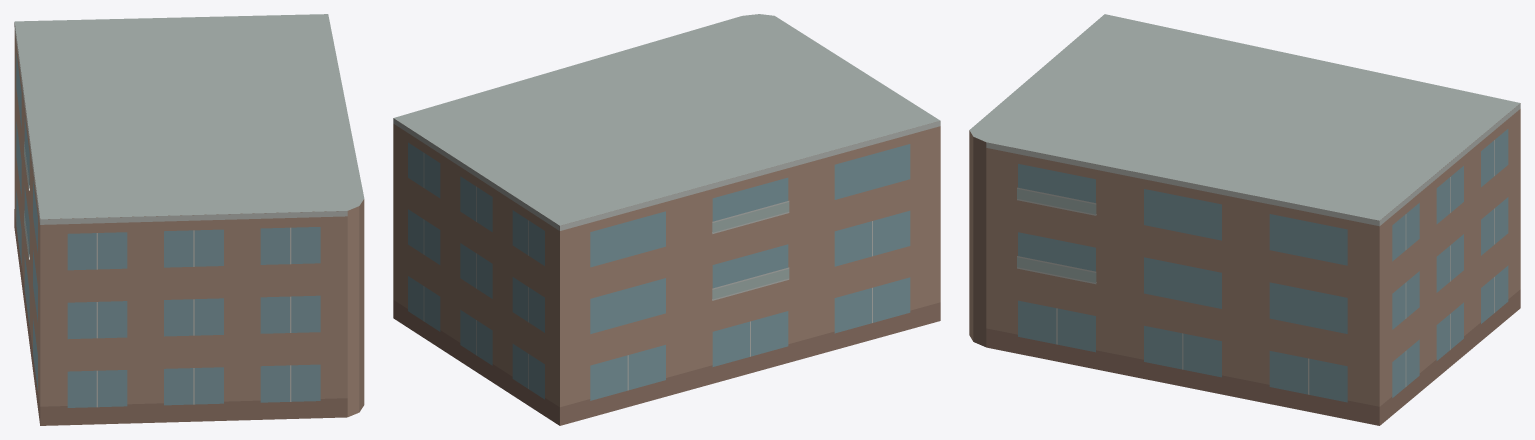
The model's file is survey-upis-32885011.glb.
3 renders of one model, left to right at view 1: azimuth 30°, elevation 25°; view 2: azimuth 150°, elevation 25°; view 3: azimuth 270°, elevation 25°, orthographic. The views are drawn at different scales.
Parts seen in each view (by area): view 1: survey-upis-32885011.tmp; view 2: survey-upis-32885011.tmp; view 3: survey-upis-32885011.tmp.
Boxes of the visible parts, left/top/right/bottom form: survey-upis-32885011.tmp: left=14, top=14, right=364, bottom=425; survey-upis-32885011.tmp: left=393, top=14, right=940, bottom=425; survey-upis-32885011.tmp: left=969, top=14, right=1520, bottom=425.
Size of the model in its own units: 19.45 by 9 by 21.92.
